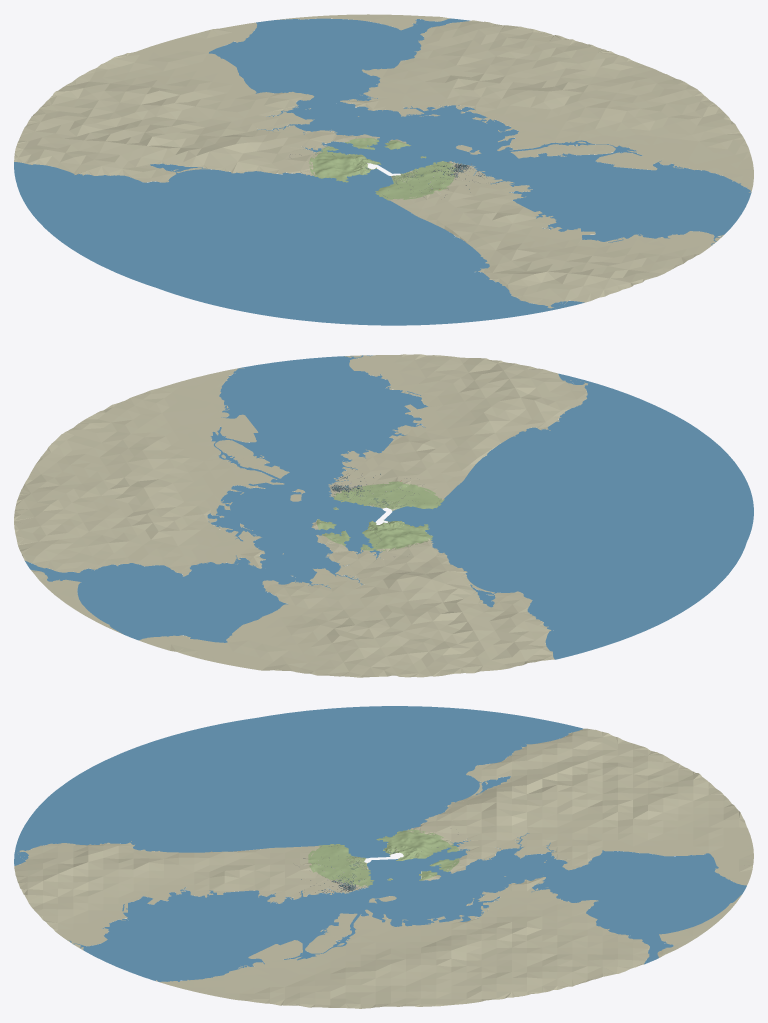
Rendered from backdrop.glb.
3 renders of one model, top to bottom at view 1: azimuth 30°, elevation 25°; view 2: azimuth 150°, elevation 25°; view 3: azimuth 270°, elevation 25°, orthographic. The views are drawn at different scales.
Parts seen in each view (by area): view 1: backdrop_horizon_water, backdrop_horizon_land, backdrop_terrain_grass, backdrop_water; view 2: backdrop_horizon_water, backdrop_horizon_land, backdrop_terrain_grass, backdrop_water; view 3: backdrop_horizon_water, backdrop_horizon_land, backdrop_terrain_grass, backdrop_water.
Part boxes in pixels (bbox=[...]): backdrop_horizon_water: bbox=[14, 18, 751, 325]; backdrop_horizon_land: bbox=[14, 14, 753, 308]; backdrop_terrain_grass: bbox=[309, 138, 458, 200]; backdrop_water: bbox=[320, 141, 447, 198]; backdrop_horizon_water: bbox=[25, 355, 753, 659]; backdrop_horizon_land: bbox=[14, 354, 587, 677]; backdrop_terrain_grass: bbox=[316, 481, 444, 550]; backdrop_water: bbox=[320, 497, 447, 548]; backdrop_horizon_water: bbox=[14, 706, 746, 981]; backdrop_horizon_land: bbox=[14, 728, 753, 1008]; backdrop_terrain_grass: bbox=[308, 829, 459, 886]; backdrop_water: bbox=[325, 831, 457, 886].
Size of the model in its own units: 71524 by 690 by 73369.
